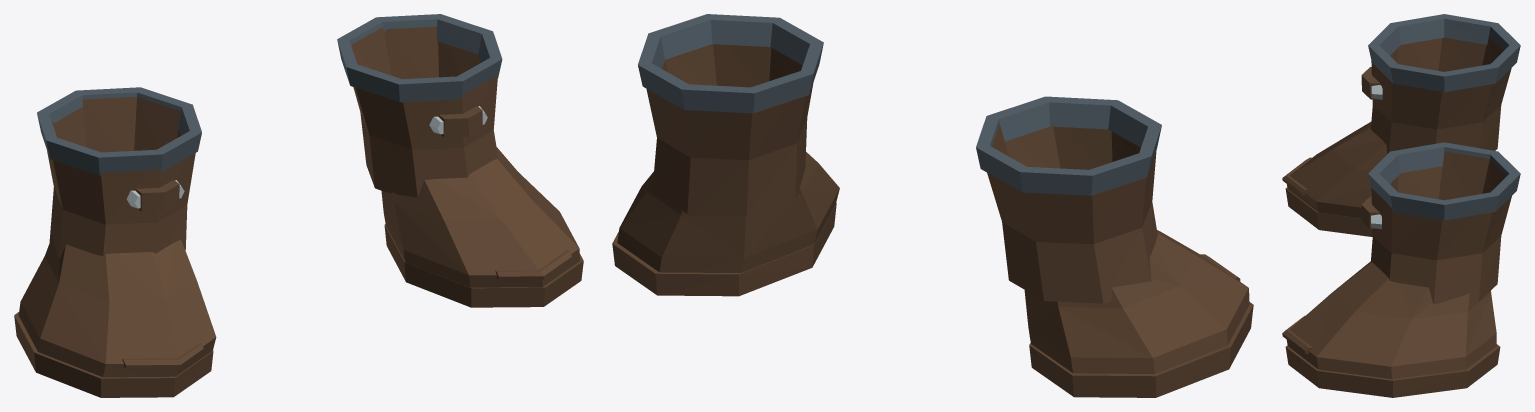
Rendered from studded_feet-female-thickHide.glb.
The picture shows the model from 3 angles, left to right: view 1: azimuth 30°, elevation 25°; view 2: azimuth 150°, elevation 25°; view 3: azimuth 270°, elevation 25°; orthographic projection. The views are drawn at different scales.
Visible parts, largest first — view 1: studded boot foot -1, studded boot foot 1, studded boot upper -1, studded boot upper 1, Turned boot cuff 1, Turned boot cuff -1, Boot sole -1, Boot sole 1, Heavy hide binding studded boot upper 1, Heavy hide binding studded boot upper -1, Boot toe welt -1, Boot toe welt 1; view 2: studded boot upper -1, studded boot upper 1, studded boot foot -1, studded boot foot 1, Turned boot cuff 1, Turned boot cuff -1, Boot sole -1, Boot sole 1; view 3: studded boot foot 1, studded boot upper 1, studded boot upper -1, Turned boot cuff -1, Turned boot cuff 1, studded boot foot -1, Boot sole 1, Boot sole -1, Boot toe welt 1, Heavy hide binding studded boot upper -1, Heavy hide binding studded boot upper 1, Boot toe welt -1.
Part boxes in pixels (left/top/right/bottom): studded boot foot -1: left=18, top=236, right=216, bottom=377; studded boot foot 1: left=381, top=147, right=580, bottom=287; studded boot upper -1: left=47, top=96, right=195, bottom=259; studded boot upper 1: left=351, top=26, right=498, bottom=197; Turned boot cuff 1: left=337, top=14, right=502, bottom=102; Turned boot cuff -1: left=37, top=87, right=201, bottom=175; Boot sole -1: left=14, top=312, right=213, bottom=397; Boot sole 1: left=384, top=224, right=583, bottom=307; Heavy hide binding studded boot upper 1: left=438, top=106, right=482, bottom=137; Heavy hide binding studded boot upper -1: left=135, top=180, right=179, bottom=211; Boot toe welt -1: left=122, top=342, right=203, bottom=368; Boot toe welt 1: left=495, top=250, right=571, bottom=279; studded boot upper -1: left=987, top=124, right=1157, bottom=303; studded boot upper 1: left=646, top=44, right=813, bottom=216; studded boot foot -1: left=1024, top=230, right=1249, bottom=373; studded boot foot 1: left=617, top=152, right=839, bottom=272; Turned boot cuff 1: left=638, top=14, right=823, bottom=113; Turned boot cuff -1: left=976, top=96, right=1161, bottom=195; Boot sole -1: left=1029, top=302, right=1253, bottom=397; Boot sole 1: left=612, top=203, right=836, bottom=296; studded boot foot 1: left=1286, top=261, right=1496, bottom=379; studded boot upper 1: left=1370, top=151, right=1511, bottom=304; studded boot upper -1: left=1370, top=33, right=1511, bottom=153; Turned boot cuff -1: left=1368, top=14, right=1520, bottom=92; Turned boot cuff 1: left=1368, top=142, right=1520, bottom=220; studded boot foot -1: left=1287, top=122, right=1387, bottom=218; Boot sole 1: left=1285, top=344, right=1500, bottom=397; Boot sole -1: left=1285, top=187, right=1372, bottom=236; Boot toe welt 1: left=1282, top=315, right=1312, bottom=353; Heavy hide binding studded boot upper -1: left=1361, top=67, right=1380, bottom=99; Heavy hide binding studded boot upper 1: left=1361, top=196, right=1379, bottom=228; Boot toe welt -1: left=1282, top=157, right=1312, bottom=195.
Size of the model in its own units: 2.74 by 0.9949 by 1.22.
